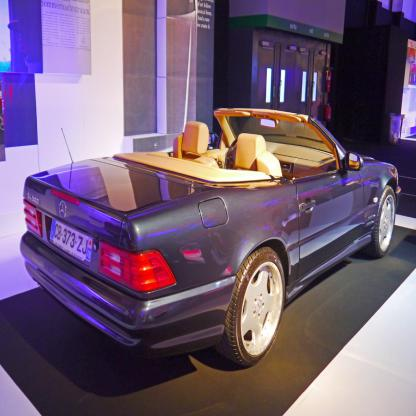Car: (19, 106, 400, 368)
